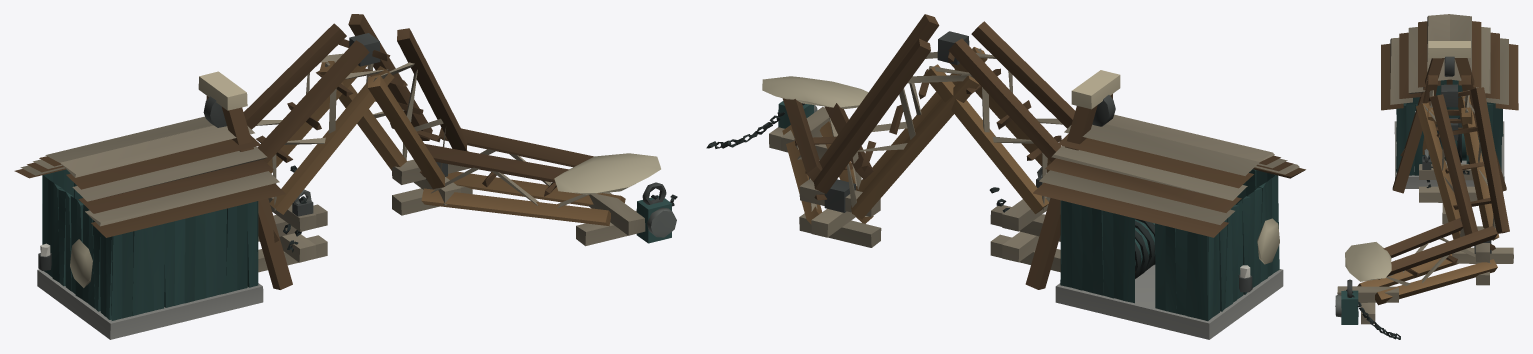
File: boom_crane_wreck_b_lod2.glb
The picture shows the model from 3 angles, left to right: view 1: azimuth 30°, elevation 25°; view 2: azimuth 150°, elevation 25°; view 3: azimuth 270°, elevation 25°; orthographic projection. The views are drawn at different scales.
Parts seen in each view (by area): view 1: Surface.001; view 2: Surface.001; view 3: Surface.001.
Part boxes in pixels (x1,y1,x2,y2): Surface.001: (14, 14, 677, 339); Surface.001: (706, 14, 1305, 339); Surface.001: (1335, 14, 1518, 339).
Size of the model in its own units: 13.71 by 4.76 by 4.95.
